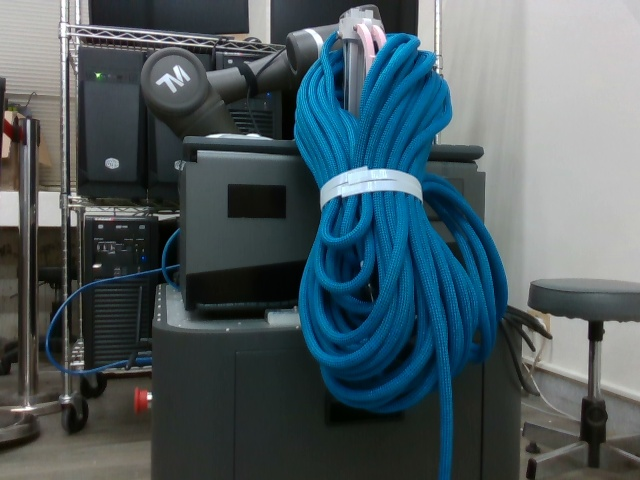rope: (287, 22, 510, 419)
